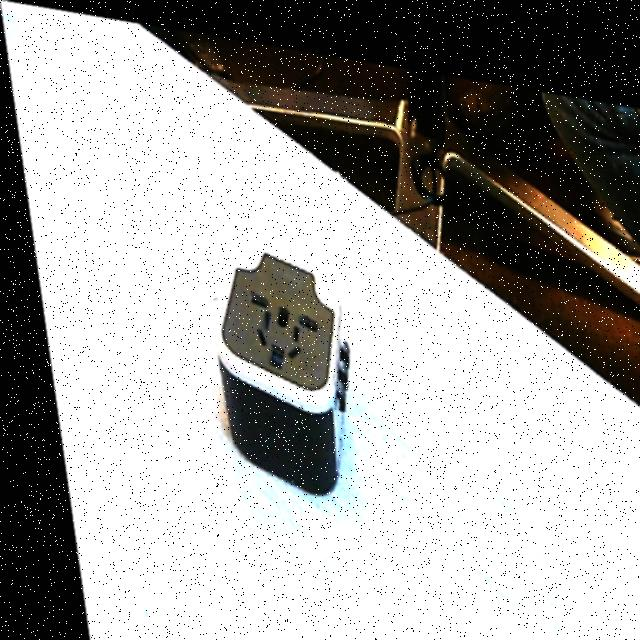adapter: (192, 228, 358, 492)
